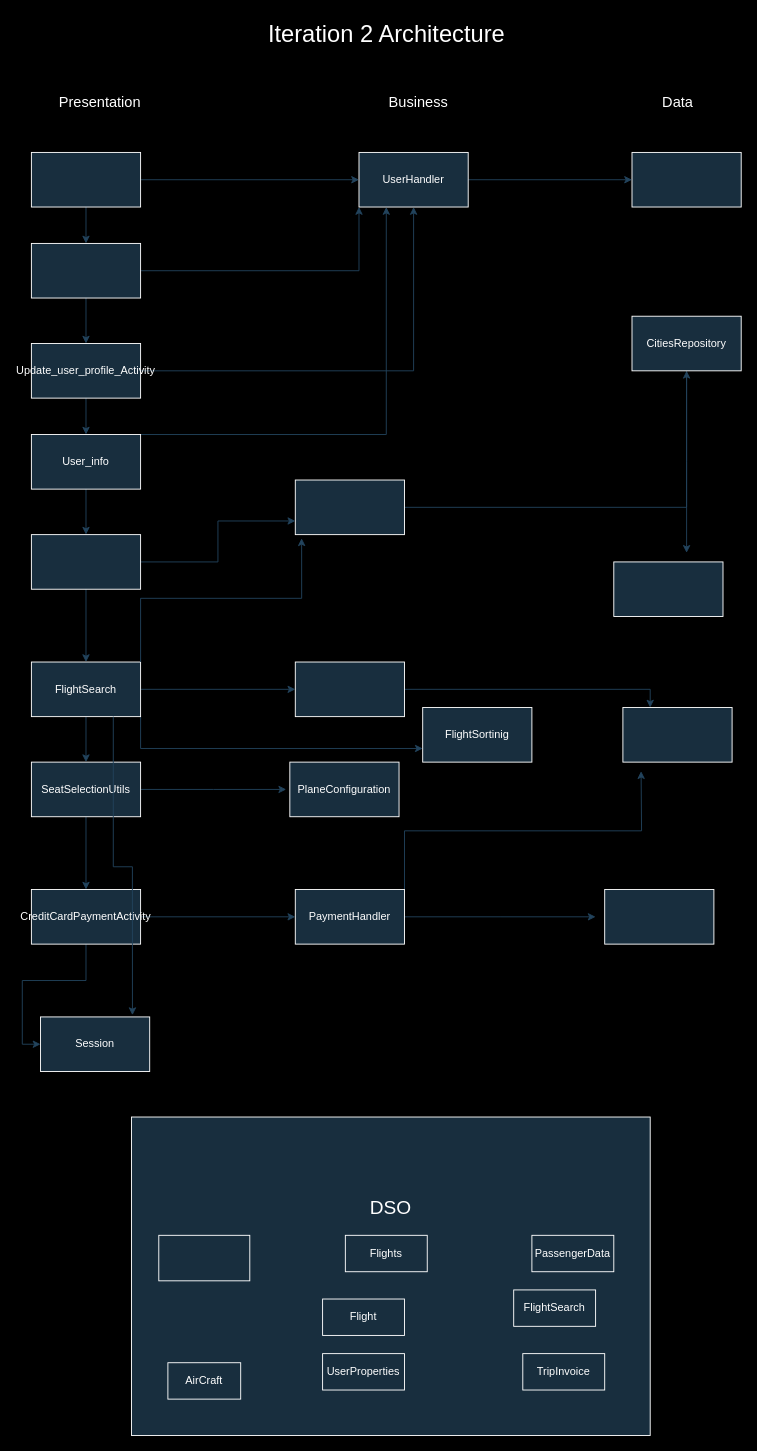
The diagram is 757 pixels wide and 1451 high, and some of its shapes have lost their labels. Each missing label, with the centre of its shape:
"AirportPath" goes at [349,507].
"BookingHSQLDB" goes at [677,734].
"City" goes at [204,1257].
"FlightDisplay" goes at [85,561].
"FlightHSQLDB" goes at [668,589].
"PassengerDataManager" goes at [349,689].
"PaymentHSQLDB" goes at [659,916].
"Sign_in_activity" goes at [85,179].
"Sign_up_Activity" goes at [85,270].
"UserHSQLDB" goes at [686,179].
